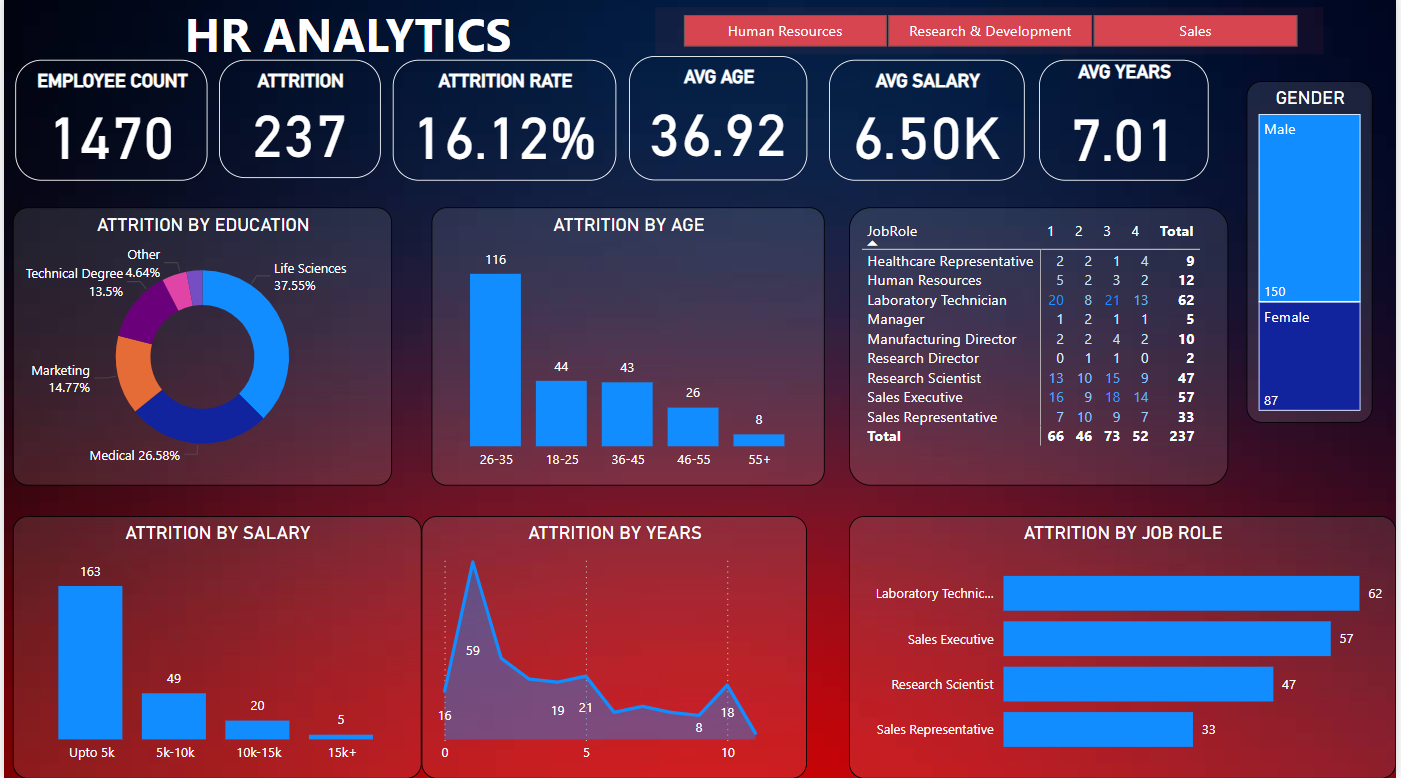

Layout of this report page (visuals, bound fields, positions):
{"tool":"powerbi","page":{"name":"Page 1","canvas":[1280,720],"ordinal":0},"visuals":[{"type":"card","title":"EMPLOYEE COUNT","fields":{"Values":["CountNonNull(HR_Analytics.EmpID)"]},"box":[10,58.6,177.1,111.4],"z":0},{"type":"card","title":"ATTRITION","fields":{"Values":["Sum(HR_Analytics.AttritionCount)"]},"box":[197.1,58.6,148.6,108.6],"z":1000},{"type":"card","title":"ATTRITION RATE","fields":{"Values":["HR_Analytics.AttritionRate"]},"box":[357.1,58.6,205.7,111.4],"z":2000},{"type":"card","title":"AVG AGE","fields":{"Values":["Avg(HR_Analytics.Age)"]},"box":[574.3,55.7,164.3,114.3],"z":3000},{"type":"card","title":"AVG SALARY","fields":{"Values":["Avg(HR_Analytics.MonthlyIncome)"]},"box":[758.6,58.6,180,111.4],"z":4000},{"type":"card","title":"AVG YEARS","fields":{"Values":["Avg(HR_Analytics.YearsAtCompany)"]},"box":[951.4,58.6,155.7,111.4],"z":5000},{"type":"donutChart","title":"ATTRITION BY EDUCATION","fields":{"Category":["HR_Analytics.EducationField"],"Y":["Sum(HR_Analytics.AttritionCount)"]},"box":[8.6,194.3,348.6,255.7],"z":6000},{"type":"columnChart","title":"ATTRITION BY AGE","fields":{"Category":["HR_Analytics.AgeGroup"],"Y":["Sum(HR_Analytics.AttritionCount)"]},"box":[392.9,194.3,361.4,255.7],"z":7000},{"type":"pivotTable","fields":{"Rows":["HR_Analytics.JobRole"],"Columns":["HR_Analytics.JobSatisfaction"],"Values":["Sum(HR_Analytics.AttritionCount)"]},"box":[777.1,194.3,348.6,255.7],"z":8000},{"type":"columnChart","title":"ATTRITION BY SALARY","fields":{"Category":["HR_Analytics.SalarySlab"],"Y":["Sum(HR_Analytics.AttritionCount)"]},"box":[8.6,478.6,375.7,241.4],"z":9000},{"type":"clusteredBarChart","title":"ATTRITION BY JOB ROLE","fields":{"Y":["Sum(HR_Analytics.AttritionCount)"],"Category":["HR_Analytics.JobRole"]},"box":[777.1,478.6,502.9,241.4],"z":10000},{"type":"stackedAreaChart","title":"ATTRITION BY YEARS","fields":{"Category":["HR_Analytics.YearsAtCompany"],"Y":["Sum(HR_Analytics.AttritionCount)"]},"box":[384.3,478.6,354.3,241.4],"z":11000},{"type":"treemap","title":"GENDER","fields":{"Group":["HR_Analytics.Gender"],"Values":["Sum(HR_Analytics.AttritionCount)"]},"box":[1142.9,78.6,115.7,314.3],"z":12000},{"type":"slicer","fields":{"Values":["HR_Analytics.Department"]},"box":[598.6,10,614.3,42.9],"z":13000},{"type":"textbox","box":[111.4,0,410,111.4],"z":14000}]}

Visuals, with their boxes in screenshot pixels (x1, y1, x2, y2), scaled from the page's 1280x720 canvas onto the 1401x778 screenshot:
"EMPLOYEE COUNT" card: bbox(11, 63, 205, 184)
"ATTRITION" card: bbox(216, 63, 378, 181)
"ATTRITION RATE" card: bbox(391, 63, 616, 184)
"AVG AGE" card: bbox(629, 60, 808, 184)
"AVG SALARY" card: bbox(830, 63, 1027, 184)
"AVG YEARS" card: bbox(1041, 63, 1212, 184)
"ATTRITION BY EDUCATION" donutChart: bbox(9, 210, 391, 486)
"ATTRITION BY AGE" columnChart: bbox(430, 210, 826, 486)
pivotTable - HR_Analytics.JobRole x HR_Analytics.JobSatisfaction: bbox(851, 210, 1232, 486)
"ATTRITION BY SALARY" columnChart: bbox(9, 517, 421, 777)
"ATTRITION BY JOB ROLE" clusteredBarChart: bbox(851, 517, 1400, 777)
"ATTRITION BY YEARS" stackedAreaChart: bbox(421, 517, 808, 777)
"GENDER" treemap: bbox(1251, 85, 1378, 425)
slicer - HR_Analytics.Department: bbox(655, 11, 1328, 57)
textbox: bbox(122, 0, 571, 120)
